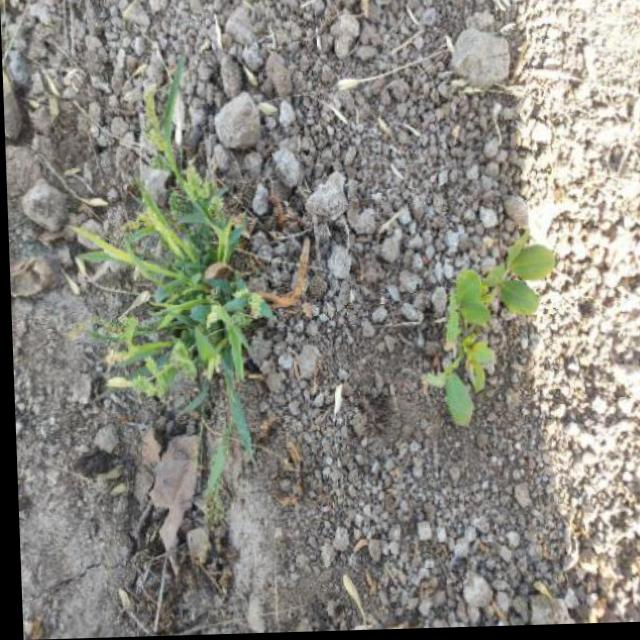weed: (59, 82, 293, 438), (402, 225, 544, 447)
